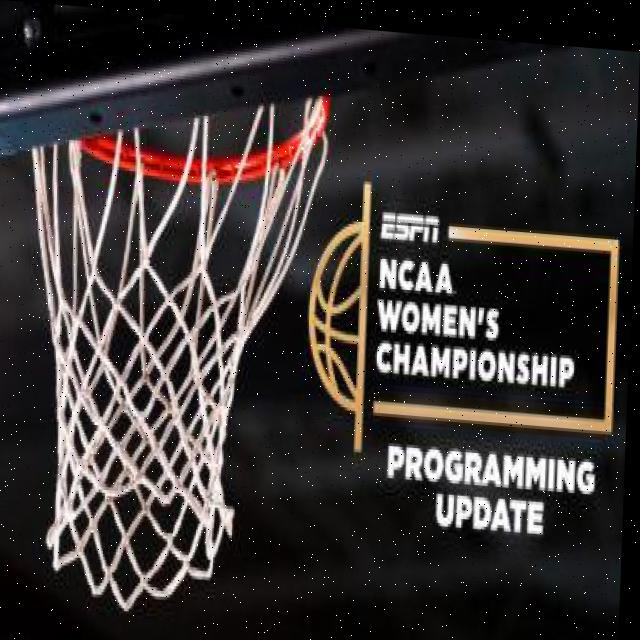hoop: (17, 67, 330, 628)
